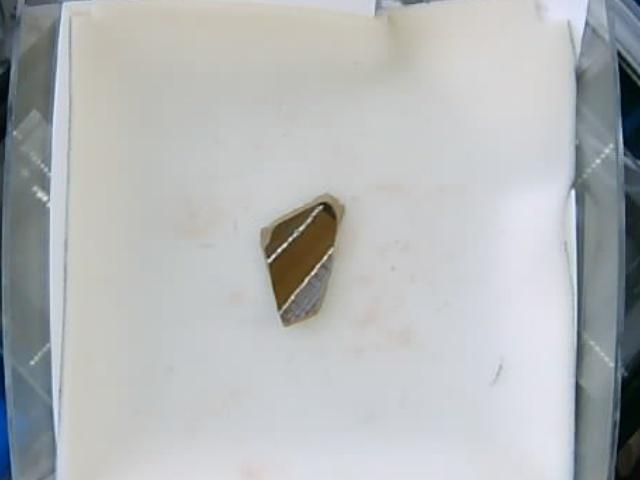China: (262, 194, 342, 326)
